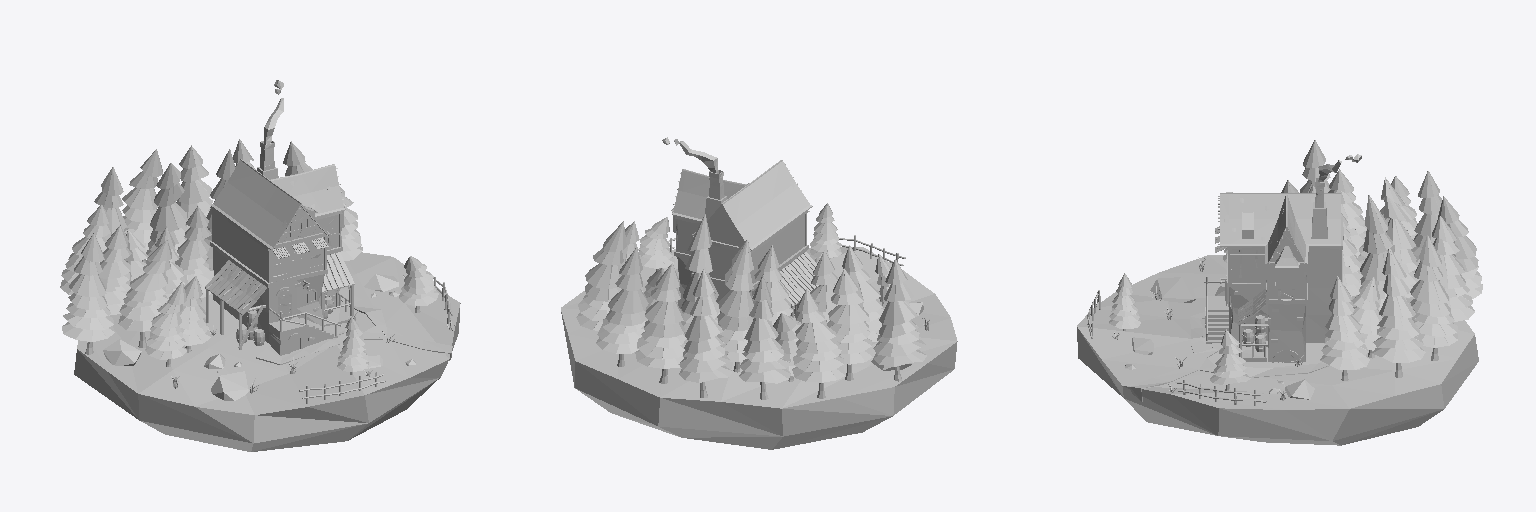
File: medieval_house.obj
3 views of the same model, side by side, from view 1: azimuth 30°, elevation 25°; view 2: azimuth 150°, elevation 25°; view 3: azimuth 270°, elevation 25° (orthographic).
Visible parts, largest first — view 1: Ground_Cylinder.030, Cube.005_Cube.006, Cylinder.042_Cylinder.061, Cube.004_Cube.005, Cylinder.037_Cylinder.056, Cube_Cube.001, Cylinder.029_Cylinder.053, Path_Plane.002, Cylinder.033_Cylinder.051, Cylinder.041_Cylinder.060, Cylinder.038_Cylinder.057, Cylinder.031_Cylinder.049 (+19 smaller); view 2: Ground_Cylinder.030, Cube.005_Cube.006, Cylinder.035_Cylinder.054, Cylinder.029_Cylinder.053, Cylinder.042_Cylinder.061, Cylinder.030_Cylinder.048, Cylinder.039_Cylinder.058, Cylinder.034_Cylinder.052, Cylinder.033_Cylinder.051, Cylinder.038_Cylinder.057, Cube.004_Cube.005, Cylinder.027_Cylinder.045 (+11 smaller); view 3: Ground_Cylinder.030, Cube.005_Cube.006, Cube_Cube.001, Cylinder.027_Cylinder.045, Cylinder.030_Cylinder.048, Cube.004_Cube.005, Cylinder.025_Cylinder.042, Path_Plane.002, Cylinder.035_Cylinder.054, Cylinder.028_Cylinder.046, Cylinder.033_Cylinder.051, Cylinder.029_Cylinder.053 (+12 smaller).
Part boxes in pixels (x1,y1,x2,y2): Ground_Cylinder.030: (74, 252, 460, 451); Cube.005_Cube.006: (210, 159, 345, 250); Cylinder.042_Cylinder.061: (62, 233, 114, 354); Cube.004_Cube.005: (210, 211, 342, 287); Cylinder.037_Cylinder.056: (118, 240, 171, 347); Cube_Cube.001: (213, 248, 338, 342); Cylinder.029_Cylinder.053: (122, 149, 162, 262); Path_Plane.002: (256, 289, 452, 364); Cylinder.033_Cylinder.051: (146, 163, 187, 263); Cylinder.041_Cylinder.060: (145, 281, 186, 366); Cylinder.038_Cylinder.057: (98, 225, 131, 315); Cylinder.031_Cylinder.049: (175, 206, 213, 297); Ground_Cylinder.030: (561, 247, 957, 449); Cube.005_Cube.006: (672, 160, 812, 253); Cylinder.035_Cylinder.054: (635, 263, 686, 383); Cylinder.029_Cylinder.053: (679, 269, 732, 397); Cylinder.042_Cylinder.061: (873, 259, 926, 381); Cylinder.030_Cylinder.048: (596, 247, 648, 366); Cylinder.039_Cylinder.058: (792, 289, 844, 398); Cylinder.034_Cylinder.052: (739, 275, 790, 399); Cylinder.033_Cylinder.051: (717, 239, 753, 372); Cylinder.038_Cylinder.057: (827, 269, 872, 380); Cube.004_Cube.005: (674, 215, 808, 291); Cylinder.027_Cylinder.045: (576, 221, 626, 330); Ground_Cylinder.030: (1077, 255, 1478, 445); Cube.005_Cube.006: (1220, 192, 1343, 266); Cube_Cube.001: (1229, 287, 1332, 361); Cylinder.027_Cylinder.045: (1372, 247, 1425, 377); Cylinder.030_Cylinder.048: (1410, 235, 1457, 360); Cube.004_Cube.005: (1227, 250, 1342, 304); Cylinder.025_Cylinder.042: (1320, 276, 1369, 380); Path_Plane.002: (1130, 312, 1329, 401); Cylinder.035_Cylinder.054: (1432, 216, 1474, 321); Cylinder.028_Cylinder.046: (1356, 195, 1406, 310); Cylinder.033_Cylinder.051: (1381, 177, 1419, 297); Cylinder.029_Cylinder.053: (1437, 196, 1482, 298).
Bounding box in the file's own units: 10.49 × 7.61 × 10.6.